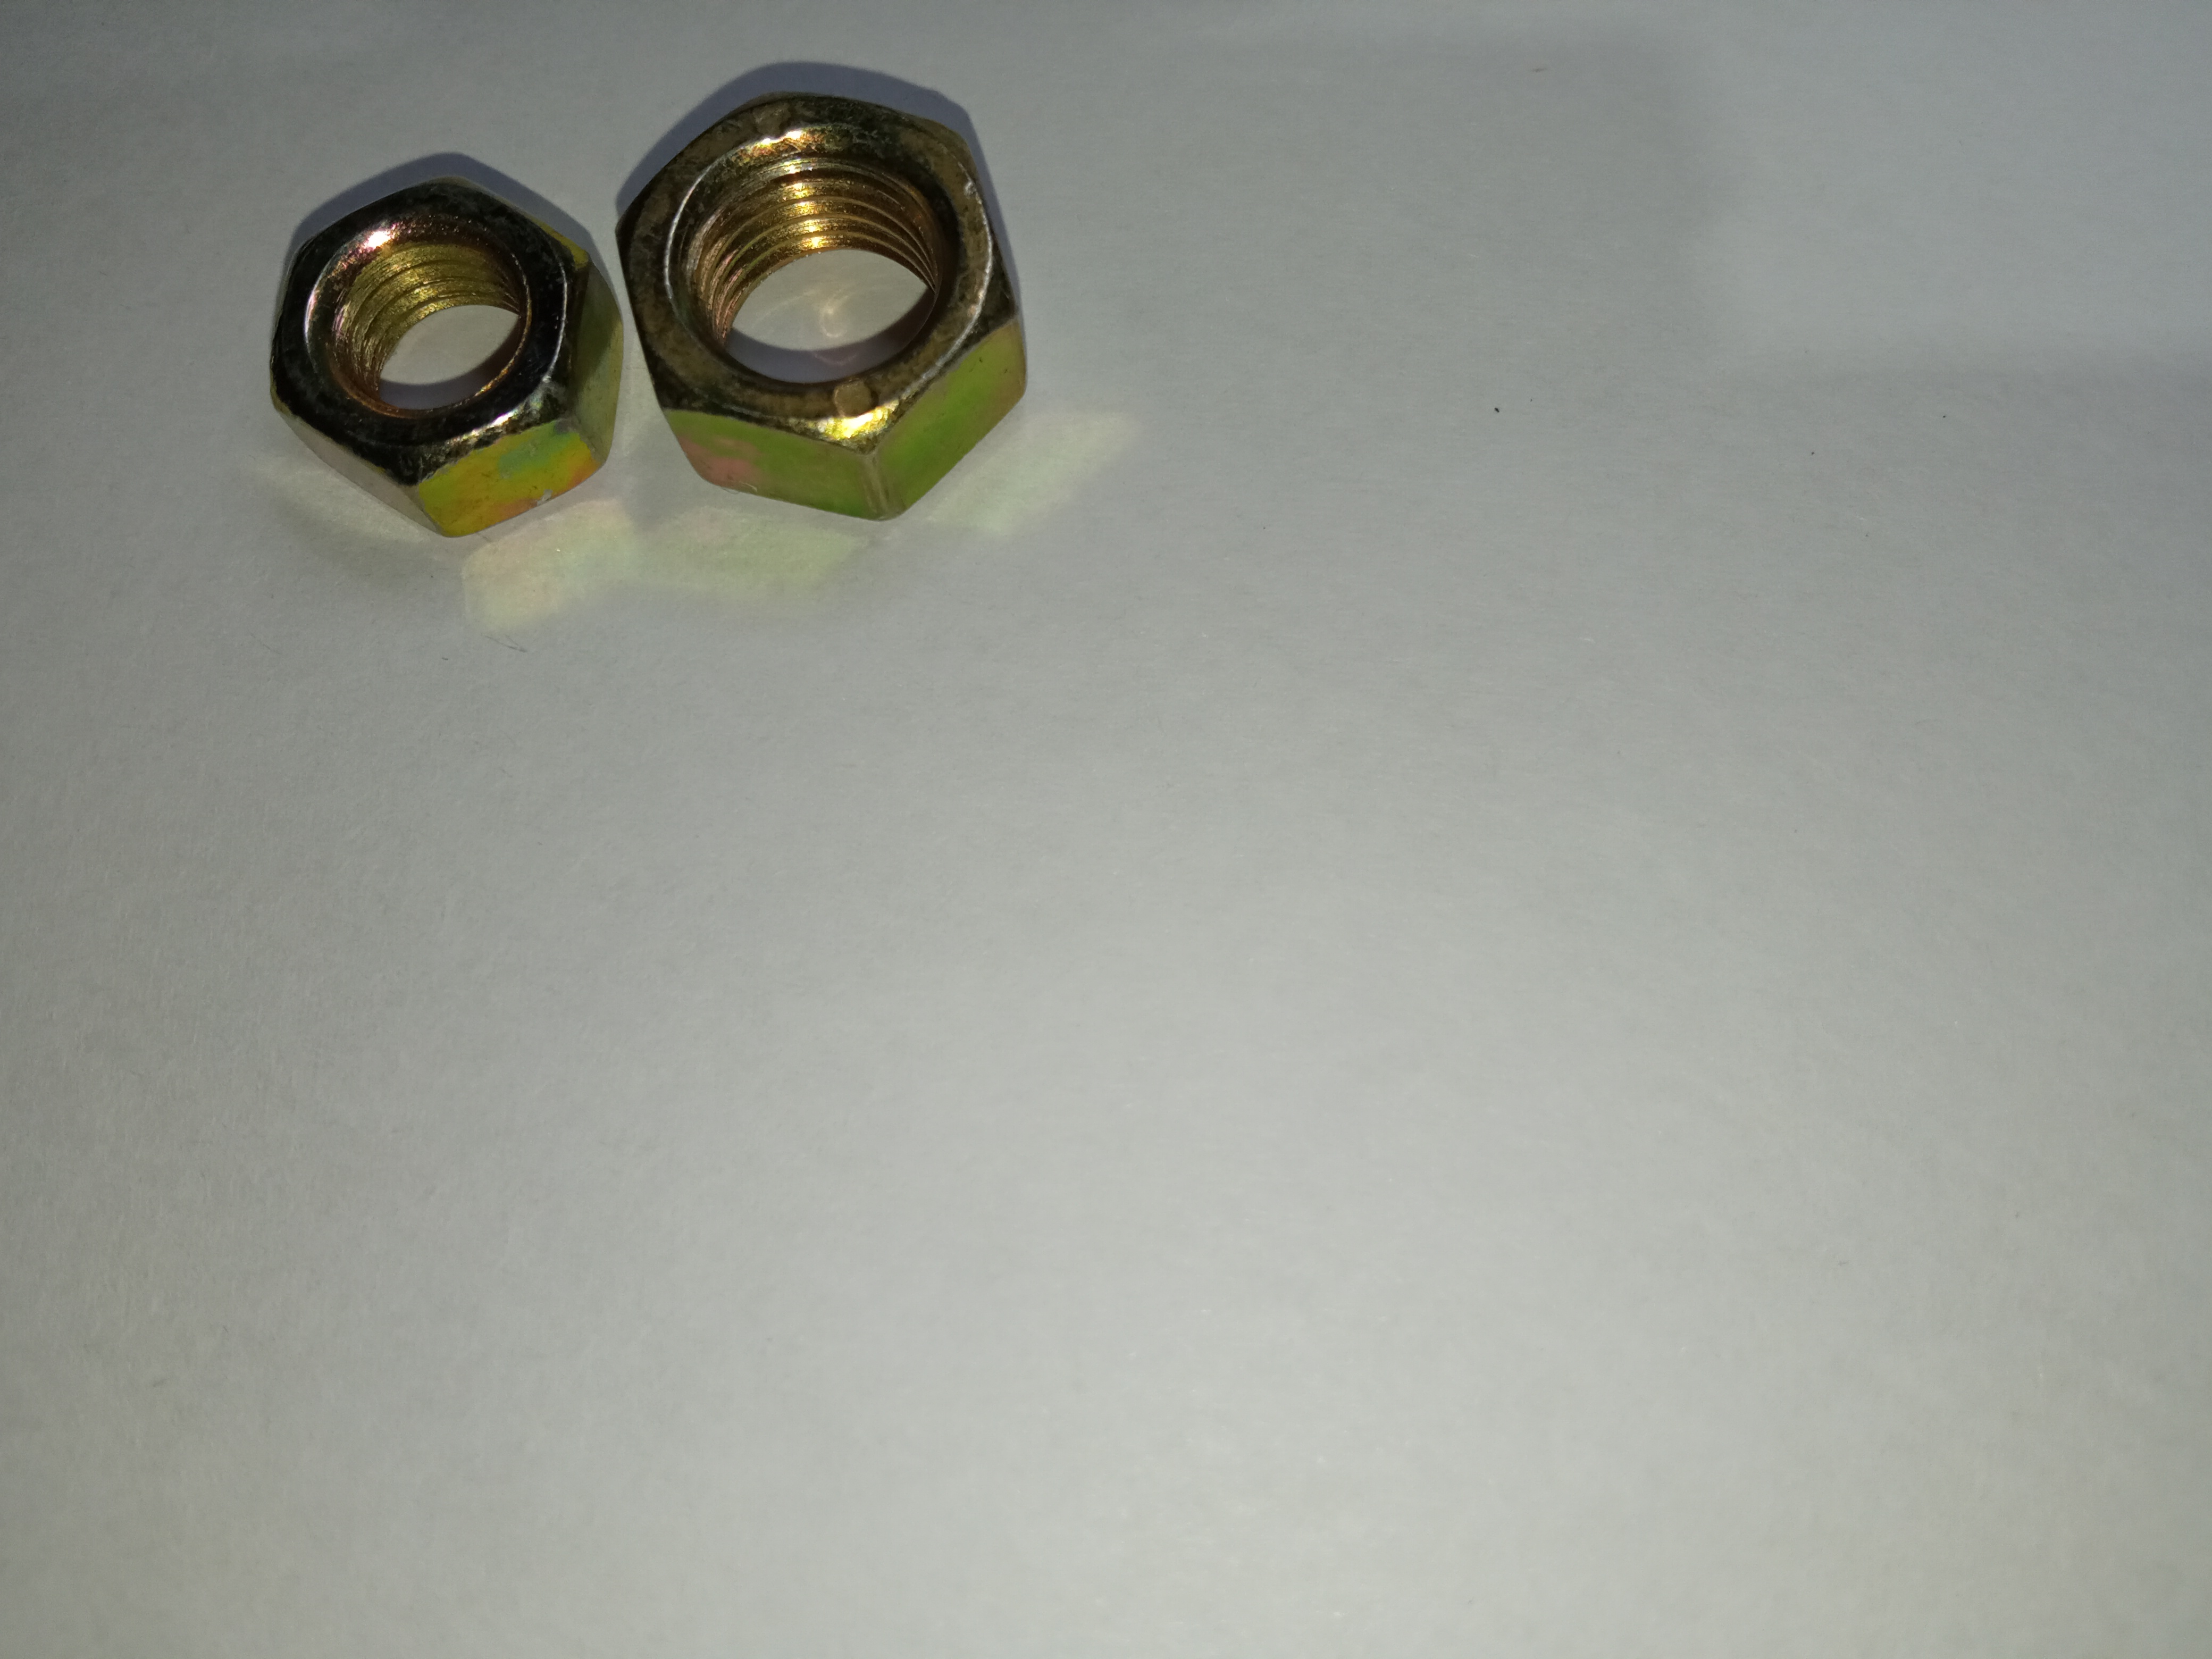m10: (655, 92, 1019, 483)
m8: (263, 181, 615, 500)
